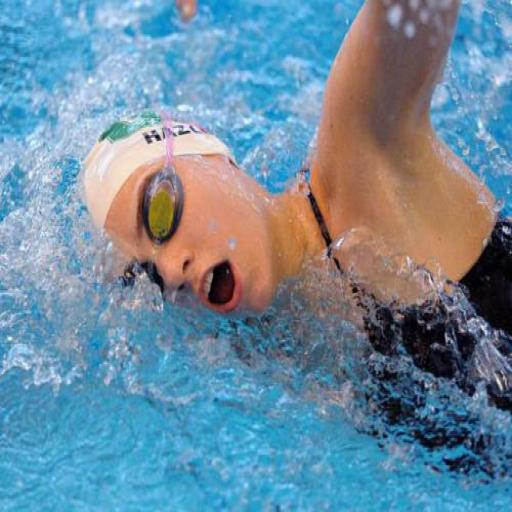swimming: (76, 0, 511, 488)
